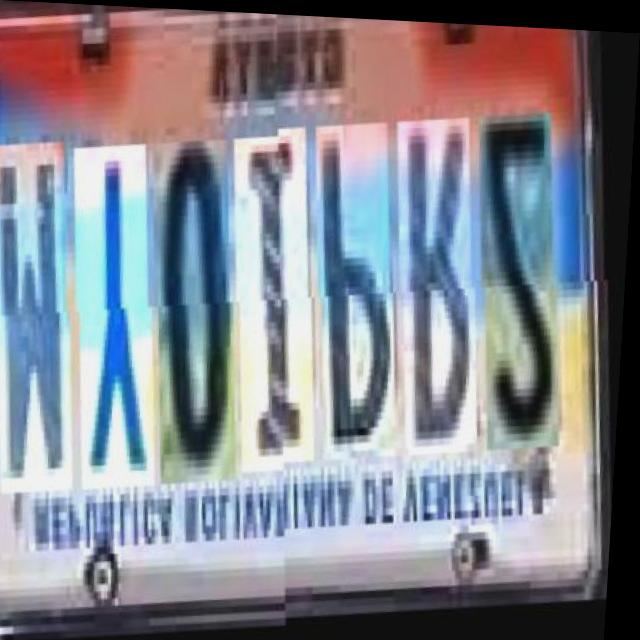2: (475, 118, 582, 460)
i: (231, 130, 337, 472)
m: (0, 133, 97, 490)
o: (149, 133, 259, 483)
p: (312, 126, 418, 469)
r: (394, 122, 500, 464)
y: (71, 137, 178, 487)
